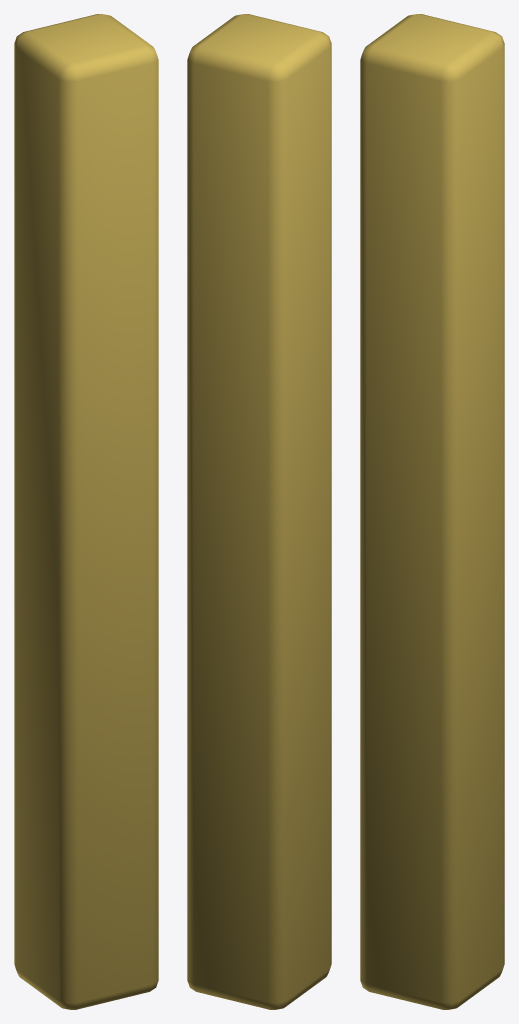
Rendered from gate_latch_post.glb.
3 renders of one model, left to right at view 1: azimuth 30°, elevation 25°; view 2: azimuth 150°, elevation 25°; view 3: azimuth 330°, elevation 25°, orthographic.
Parts seen in each view (by area): view 1: g_gate_yellow; view 2: g_gate_yellow; view 3: g_gate_yellow.
Boxes of the visible parts, bbox=[...] form: g_gate_yellow: bbox=[14, 14, 158, 1009]; g_gate_yellow: bbox=[187, 14, 331, 1009]; g_gate_yellow: bbox=[360, 14, 504, 1009].
Size of the model in its own units: 0.12 by 1.1 by 0.12.
